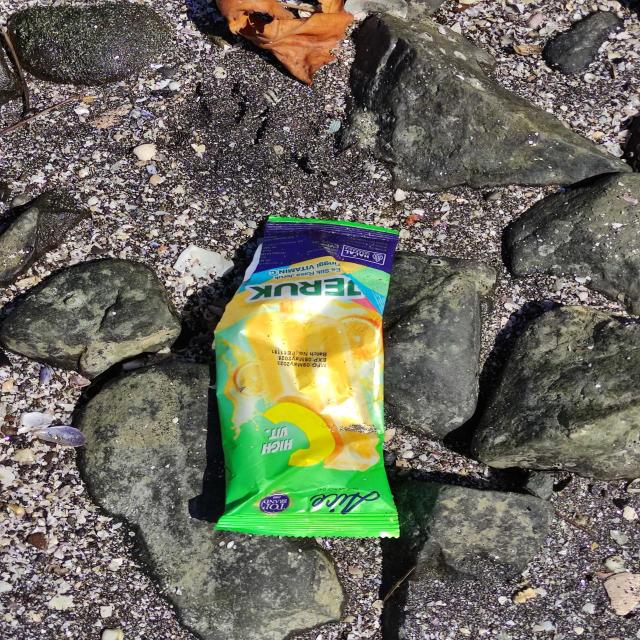plastic_waste: (216, 218, 403, 541)
